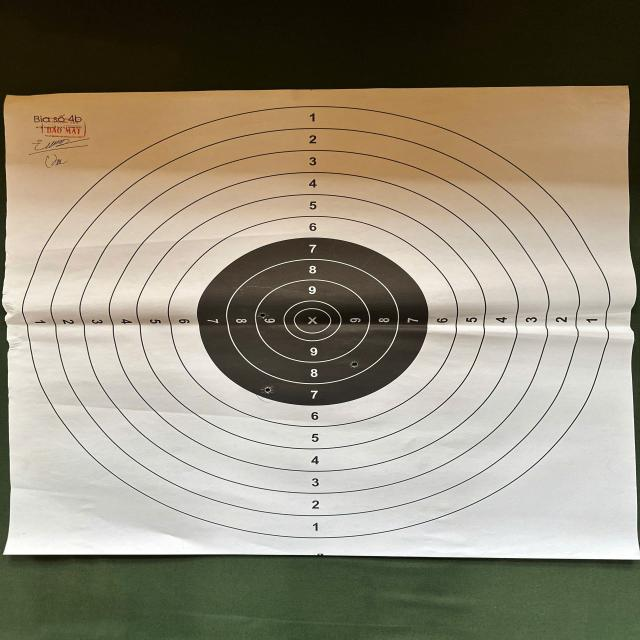bullet: (349, 360, 356, 368), (259, 312, 266, 318), (264, 388, 272, 392)
target: (4, 88, 628, 560)
